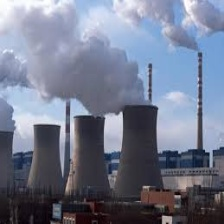smoke: (1, 1, 224, 107)
